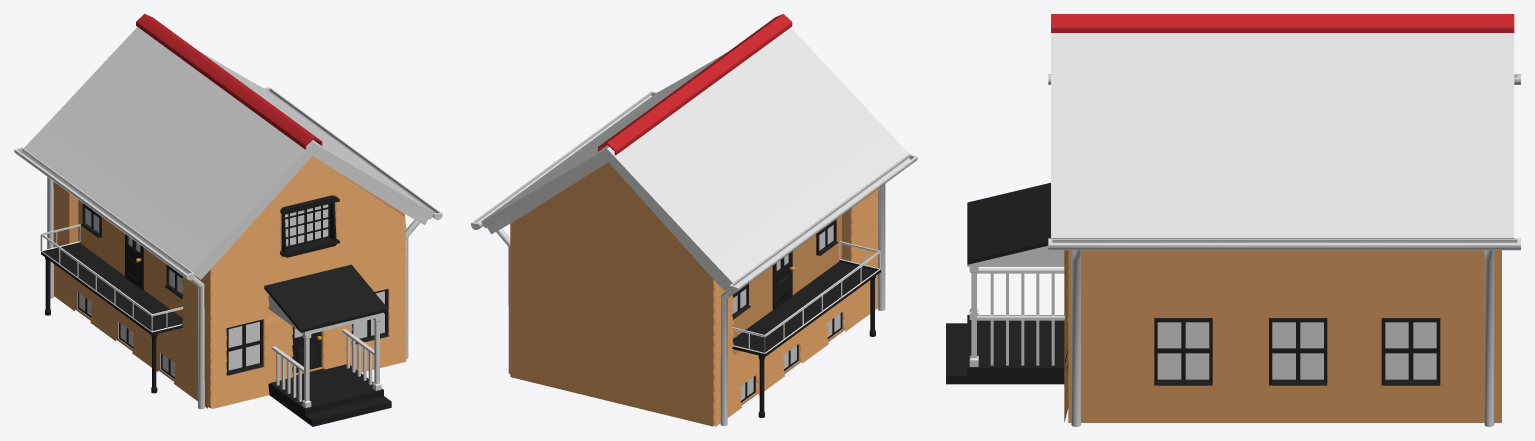
The model's file is Frontan4.glb.
3 renders of one model, left to right at view 1: azimuth 30°, elevation 25°; view 2: azimuth 150°, elevation 25°; view 3: azimuth 270°, elevation 25°, orthographic. The views are drawn at different scales.
Visible parts, largest first — view 1: Frontan; view 2: Frontan; view 3: Frontan.
Boxes of the visible parts, <box> form: Frontan: <box>14,14,442,426</box>; Frontan: <box>471,14,917,426</box>; Frontan: <box>946,14,1520,426</box>.
Size of the model in its own units: 16.79 by 15.75 by 23.87.
